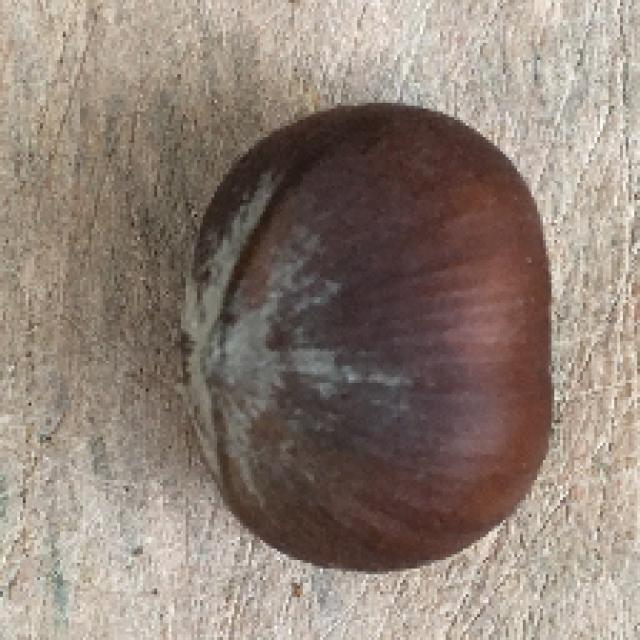damagedHazelnut: (173, 97, 560, 568)
